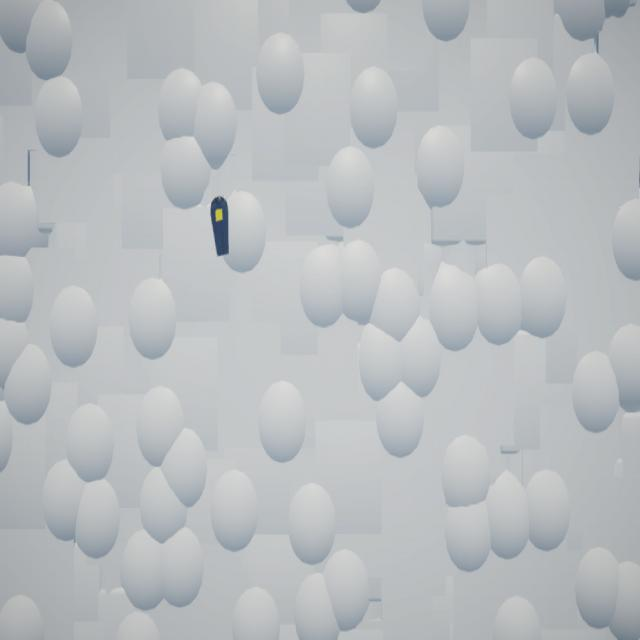handle_folk: (211, 197, 230, 258)
